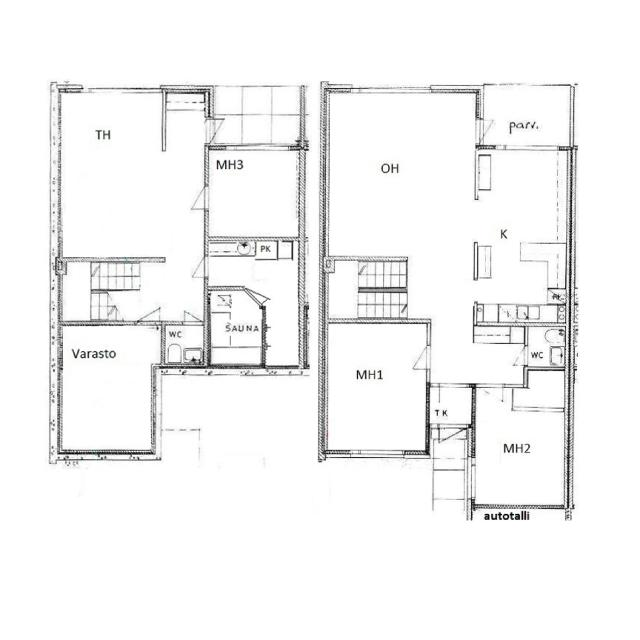door: (473, 381, 511, 408), (409, 344, 433, 378), (188, 185, 212, 218), (472, 115, 496, 146), (201, 116, 222, 148), (133, 306, 163, 328), (434, 424, 466, 442), (512, 343, 528, 370), (179, 312, 200, 328)
window: (351, 81, 434, 100), (336, 447, 408, 466), (81, 82, 161, 98), (490, 142, 564, 156), (230, 140, 290, 155), (464, 456, 479, 501), (533, 404, 566, 416)
zone: (55, 91, 207, 259), (323, 90, 476, 256), (474, 148, 570, 326), (320, 319, 429, 455), (54, 324, 158, 458), (470, 399, 570, 510), (206, 146, 302, 240), (476, 84, 574, 151), (208, 269, 269, 370), (427, 382, 474, 429), (525, 326, 572, 368), (162, 324, 207, 365), (431, 426, 472, 466), (268, 85, 302, 117)
